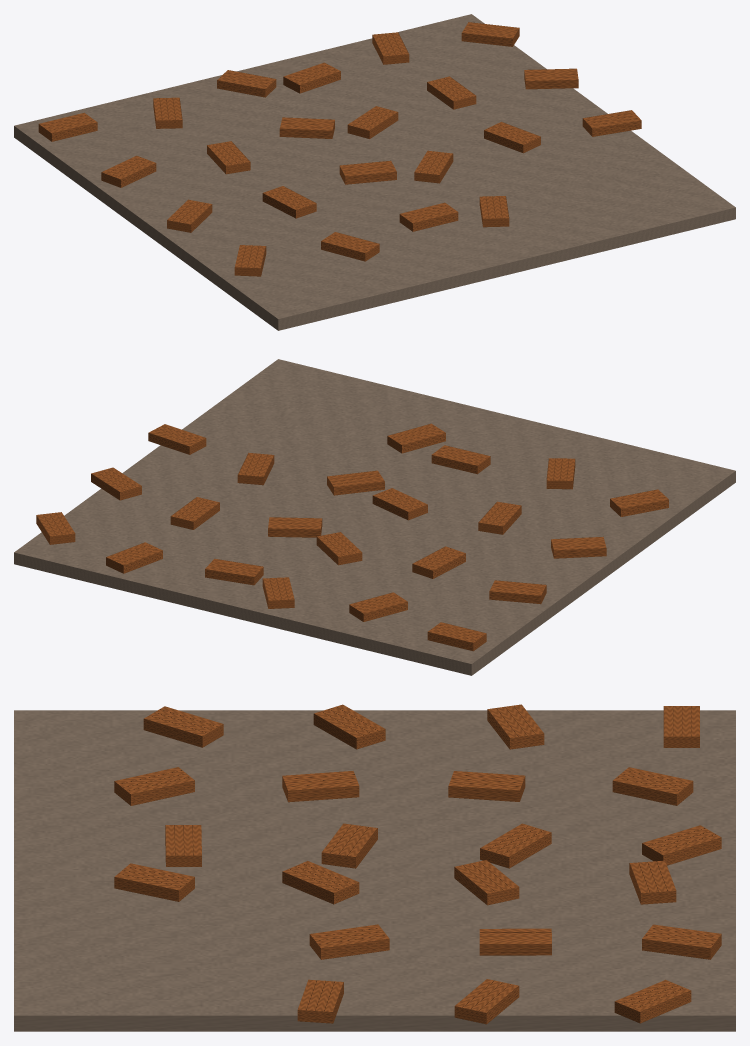
Rendered from allotments-and-community-garden-wood-chip-path-tile-d15bdaba__35131.glb.
The picture shows the model from 3 angles, top to bottom: view 1: azimuth 30°, elevation 25°; view 2: azimuth 150°, elevation 25°; view 3: azimuth 270°, elevation 25°; orthographic projection. The views are drawn at different scales.
Parts seen in each view (by area): view 1: wood-chip-path-tile-soil, wood-chip-path-tile-timber; view 2: wood-chip-path-tile-soil, wood-chip-path-tile-timber; view 3: wood-chip-path-tile-soil, wood-chip-path-tile-timber.
Part boxes in pixels (x1,y1,x2,y2): wood-chip-path-tile-soil: [14, 14, 735, 330]; wood-chip-path-tile-timber: [38, 22, 641, 276]; wood-chip-path-tile-soil: [14, 359, 735, 675]; wood-chip-path-tile-timber: [36, 423, 668, 651]; wood-chip-path-tile-soil: [14, 710, 735, 1031]; wood-chip-path-tile-timber: [114, 704, 721, 1024].
Size of the model in its own units: 2.06 by 0.0856 by 2.
2 materials, 2 textured.
